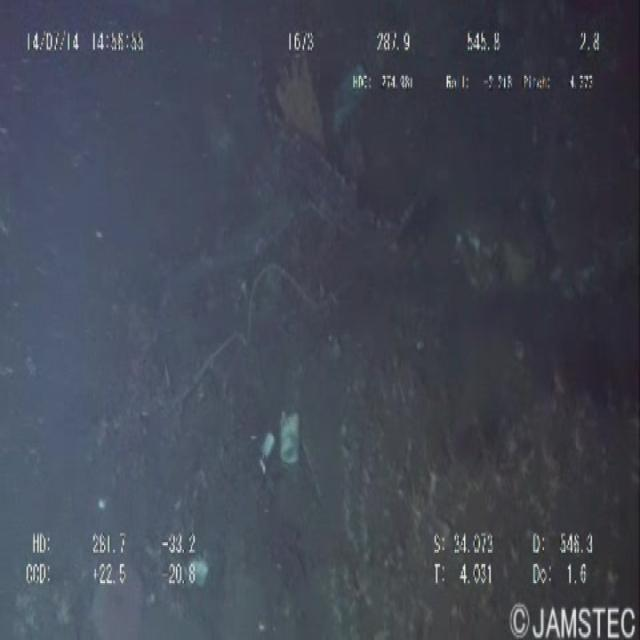Glass: (255, 427, 279, 478)
Litter: (247, 83, 425, 307), (180, 537, 213, 611)
Plastic: (279, 407, 311, 483)
